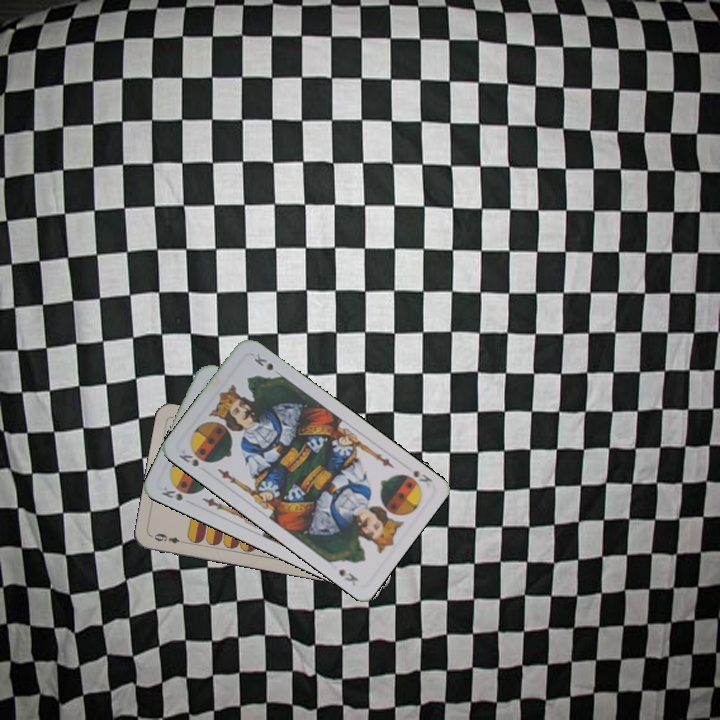E9: (148, 529, 189, 546)
SK: (398, 466, 435, 491), (175, 446, 201, 469), (158, 483, 185, 503)
